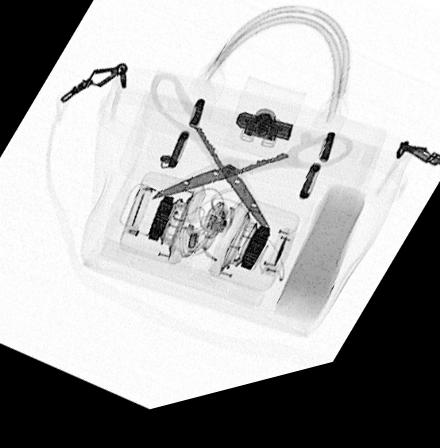Scissors: (149, 78, 353, 246)
